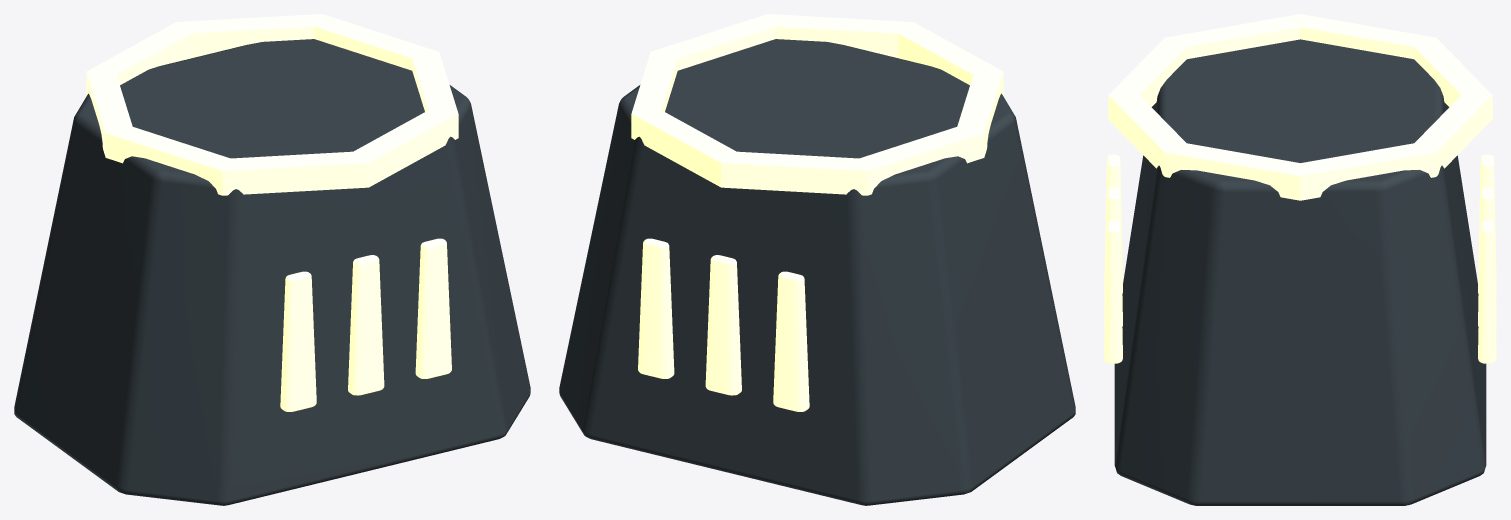
The model's file is AmmoCache.fbx.
The picture shows the model from 3 angles, left to right: view 1: azimuth 30°, elevation 25°; view 2: azimuth 150°, elevation 25°; view 3: azimuth 270°, elevation 25°; orthographic projection.
Visible parts, largest first — view 1: Shell, SignalRim, ChargeCell.003, ChargeCell.004, ChargeCell.005; view 2: Shell, SignalRim, ChargeCell, ChargeCell.001, ChargeCell.002; view 3: Shell, SignalRim, ChargeCell, ChargeCell.003, ChargeCell.002, ChargeCell.005, ChargeCell.001, ChargeCell.004.
Part boxes in pixels (left/top/right/bottom): Shell: left=14, top=39, right=530, bottom=505; SignalRim: left=86, top=14, right=458, bottom=195; ChargeCell.003: left=415, top=238, right=451, bottom=378; ChargeCell.004: left=348, top=255, right=384, bottom=395; ChargeCell.005: left=280, top=271, right=316, bottom=411; Shell: left=559, top=39, right=1075, bottom=505; SignalRim: left=631, top=14, right=1003, bottom=195; ChargeCell: left=638, top=238, right=674, bottom=378; ChargeCell.001: left=705, top=255, right=741, bottom=395; ChargeCell.002: left=773, top=271, right=809, bottom=411; Shell: left=1114, top=39, right=1486, bottom=505; SignalRim: left=1108, top=14, right=1492, bottom=200; ChargeCell: left=1478, top=220, right=1496, bottom=363; ChargeCell.003: left=1104, top=220, right=1122, bottom=363; ChargeCell.002: left=1478, top=154, right=1496, bottom=293; ChargeCell.005: left=1104, top=154, right=1122, bottom=293; ChargeCell.001: left=1478, top=187, right=1496, bottom=326; ChargeCell.004: left=1104, top=187, right=1122, bottom=326.
Size of the model in its own units: 0.4573 by 0.333 by 0.3779.
